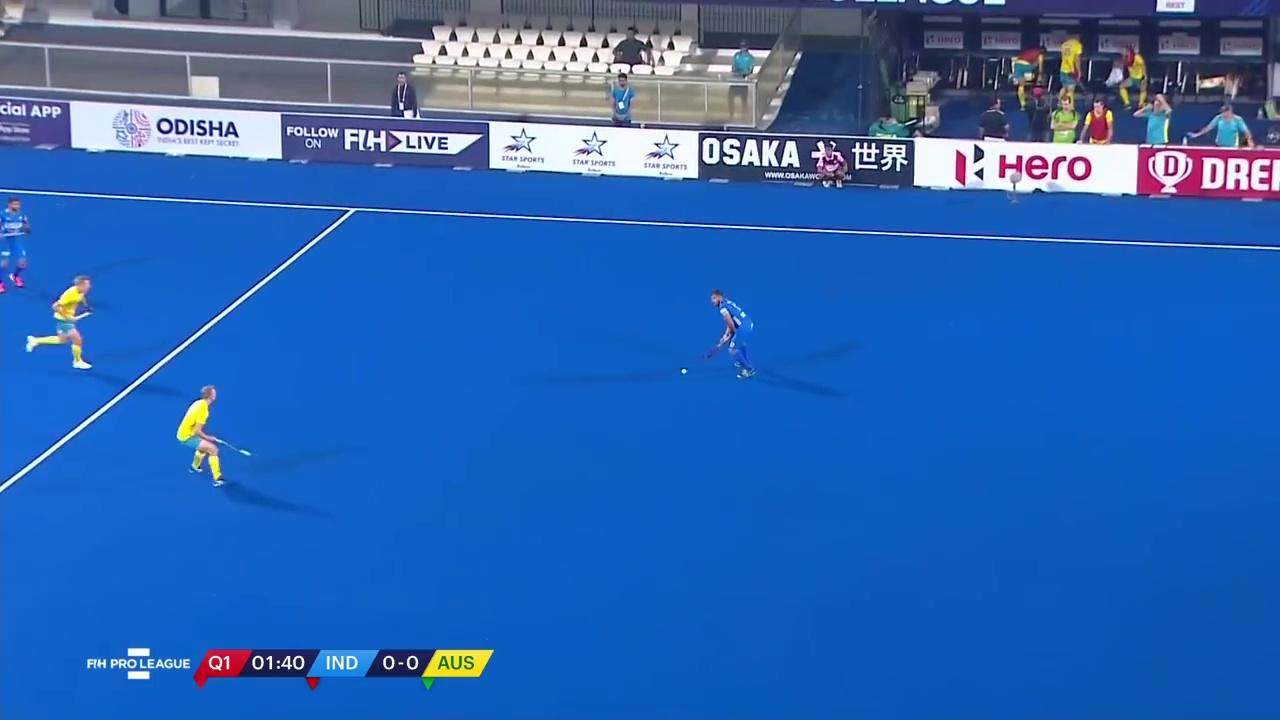ball: (674, 359, 691, 387)
